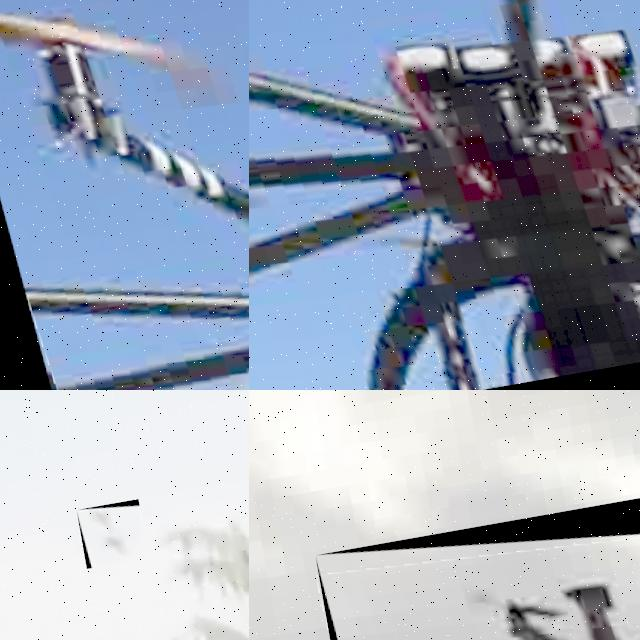drone: (249, 0, 640, 390), (0, 0, 249, 390), (315, 466, 640, 640), (76, 498, 148, 568)
